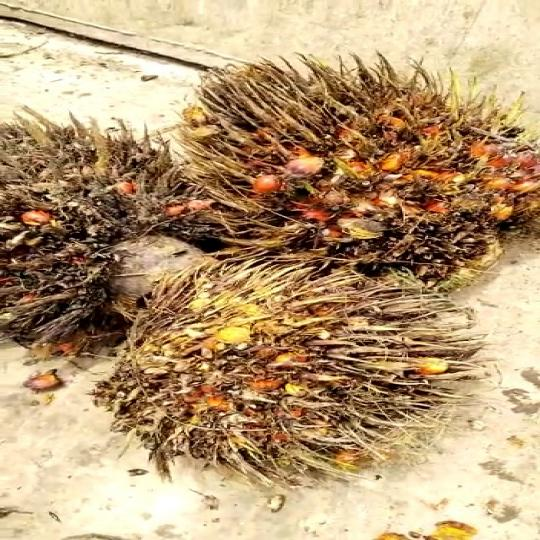terlalu masak: (99, 253, 496, 487), (165, 52, 540, 282)
